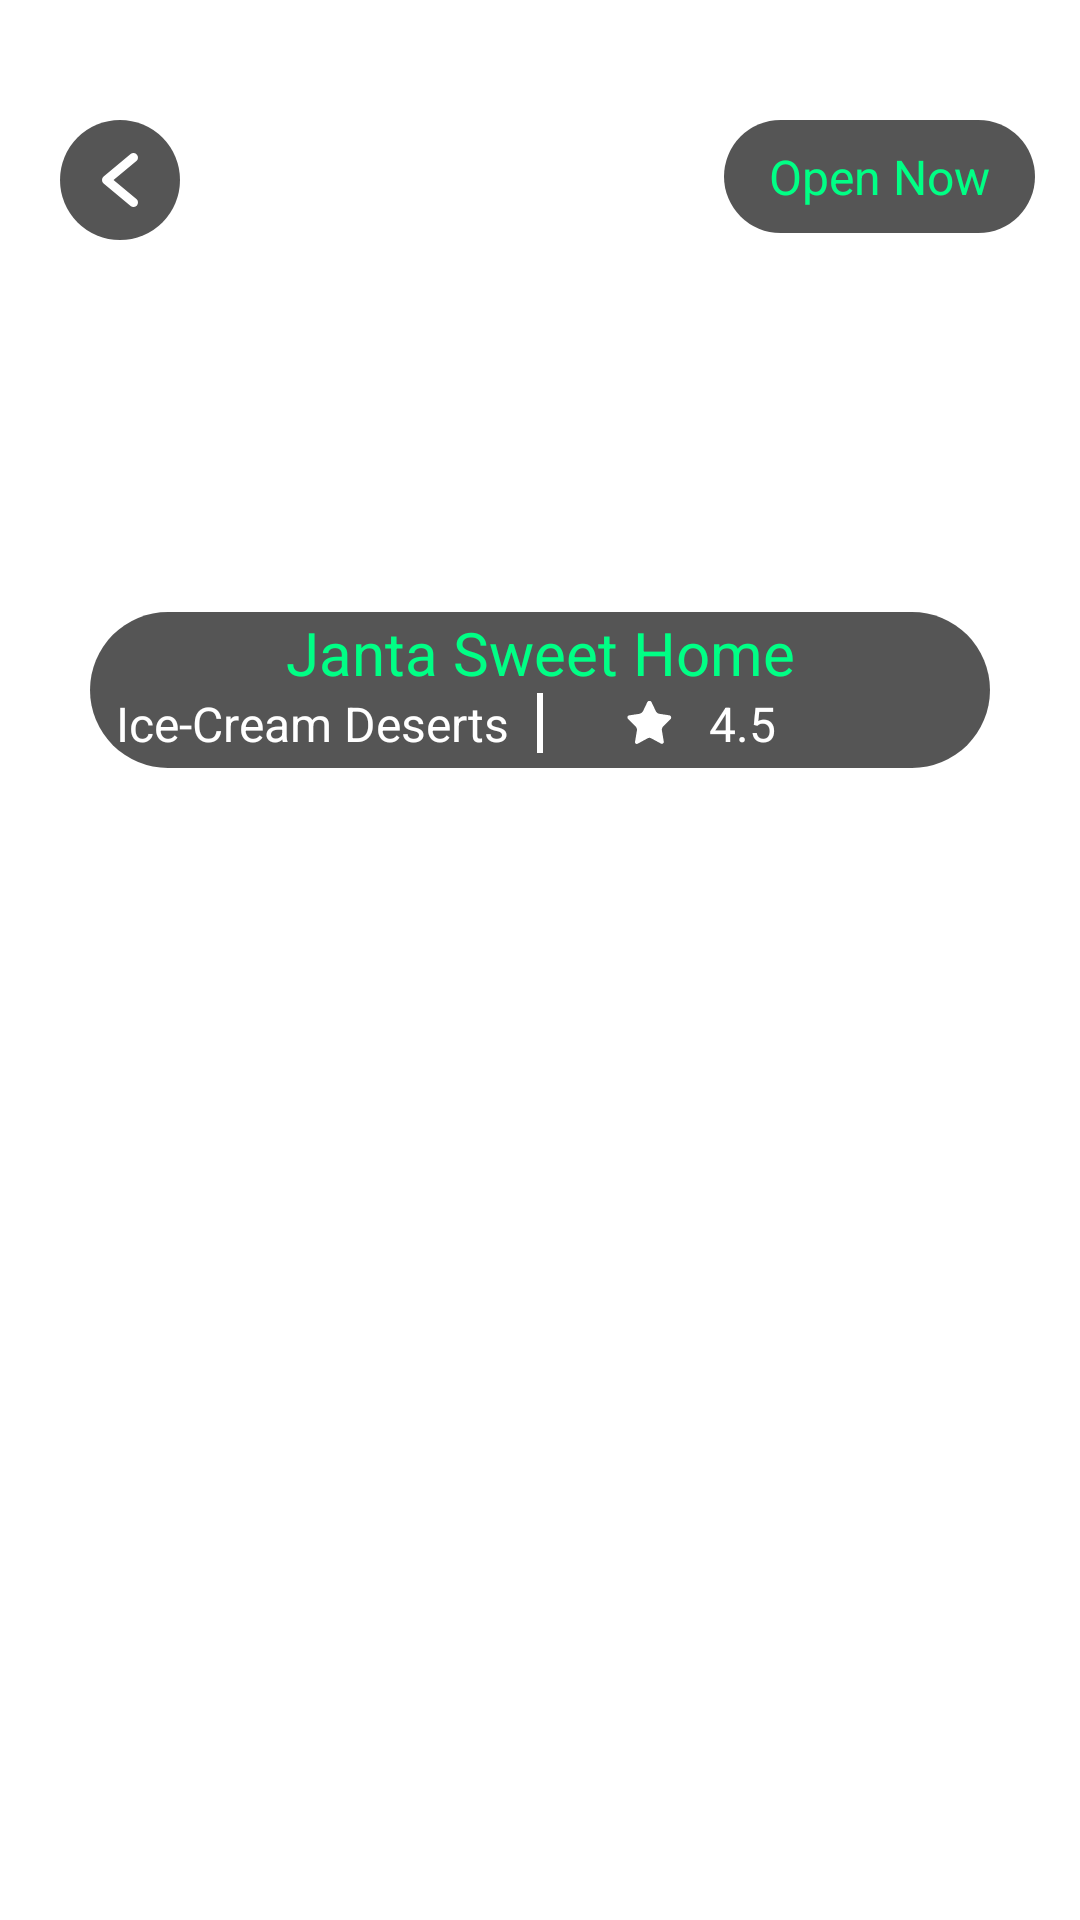

Point at icon controls on the screen. Image size 1080px x 1920px, points as (x,y).
back: (120,180)
